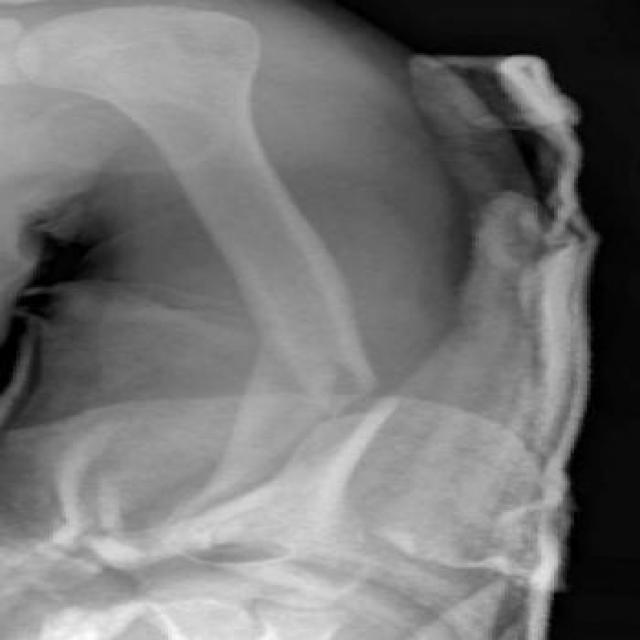Fracture: (243, 347, 437, 437)
